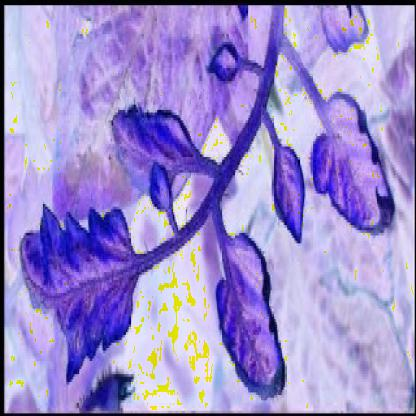Tomato leaf yellow virus: (18, 191, 147, 377), (304, 81, 394, 246), (209, 230, 287, 395), (109, 86, 204, 204), (269, 136, 304, 249)
